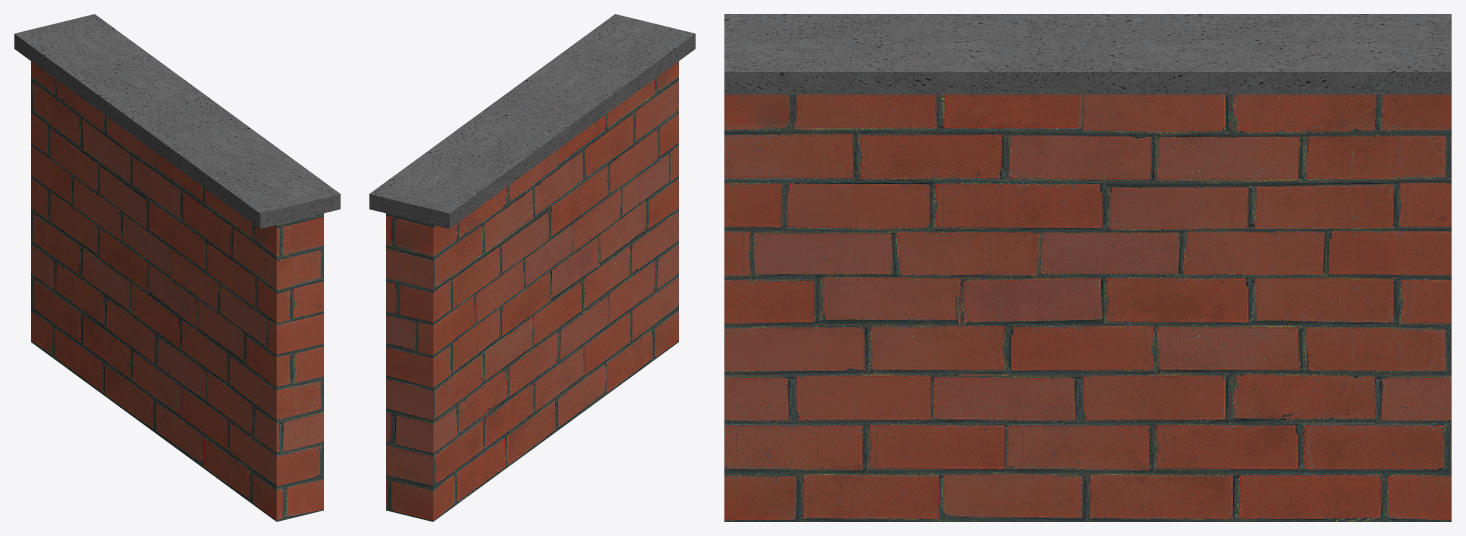
File: WallRedBricks.dae
3 renders of one model, left to right at view 1: azimuth 30°, elevation 25°; view 2: azimuth 150°, elevation 25°; view 3: azimuth 270°, elevation 25°, orthographic. The views are drawn at different scales.
Parts seen in each view (by area): view 1: WallRedBricks; view 2: WallRedBricks; view 3: WallRedBricks.
Part boxes in pixels (x1,y1,x2,y2): WallRedBricks: [14, 14, 340, 521]; WallRedBricks: [369, 14, 695, 521]; WallRedBricks: [724, 14, 1451, 521].
Size of the model in its own units: 6.8 by 36 by 25.24.
